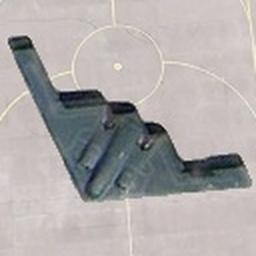Airplane: (8, 24, 252, 214)
